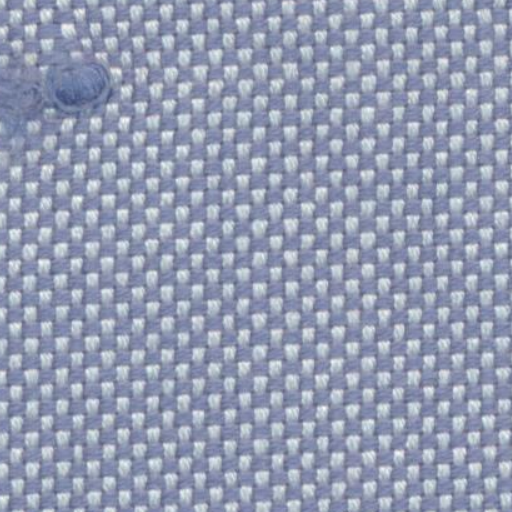MianQiu: (10, 30, 144, 148)
